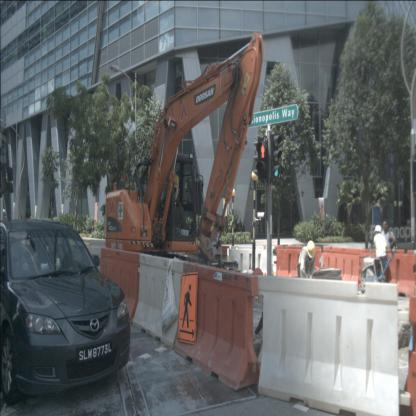human-pedestrian-adult: (380, 220, 396, 286)
movable_object-barrier: (256, 276, 400, 416), (174, 259, 260, 391), (132, 252, 184, 349), (99, 245, 140, 340), (360, 248, 415, 300), (321, 244, 370, 295), (228, 244, 276, 292), (274, 244, 322, 285), (402, 284, 416, 416)
vehicle-car: (0, 218, 131, 406)
